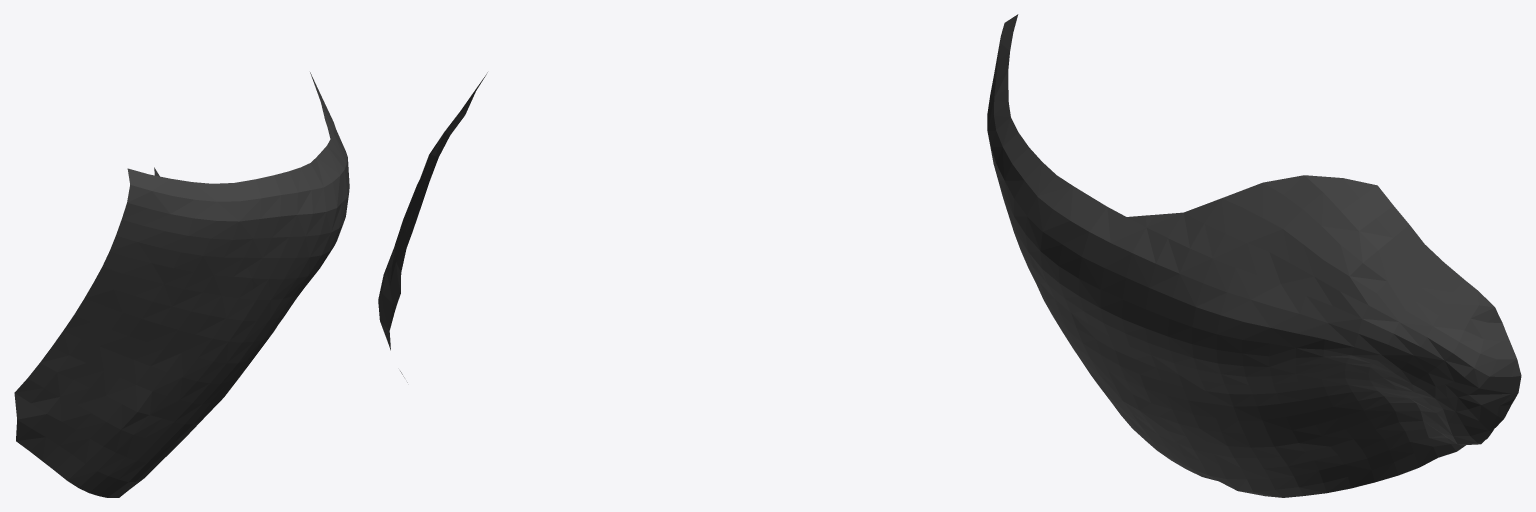
Rendered from eq_dist_limb_Bulb_Heel.glb.
3 views of the same model, side by side, from view 1: azimuth 30°, elevation 25°; view 2: azimuth 150°, elevation 25°; view 3: azimuth 270°, elevation 25° (orthographic). The views are drawn at different scales.
Parts seen in each view (by area): view 1: eq_dist_limb_Bulb_Heel; view 2: eq_dist_limb_Bulb_Heel; view 3: eq_dist_limb_Bulb_Heel.
Part boxes in pixels (<box>): eq_dist_limb_Bulb_Heel: <box>14,72,349,497</box>; eq_dist_limb_Bulb_Heel: <box>378,72,487,382</box>; eq_dist_limb_Bulb_Heel: <box>987,14,1521,497</box>.
Size of the model in its own units: 0.00492 by 0.00487 by 0.00549.
1 material, 1 textured.
